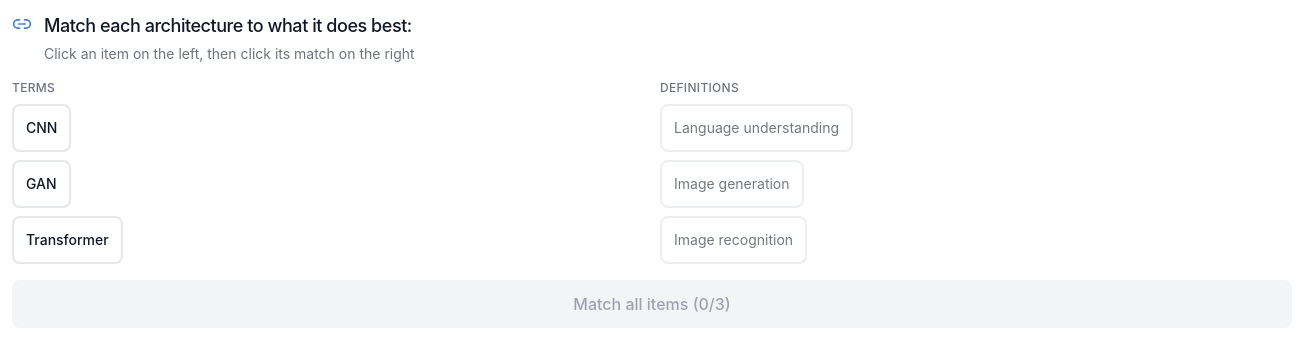
Test case: MatchingQuestion › enables submit button when all items are matched
Match all pairs
Click the button with test id "left-p1" at (42, 128), box x1=12 y1=104 x2=72 y2=152
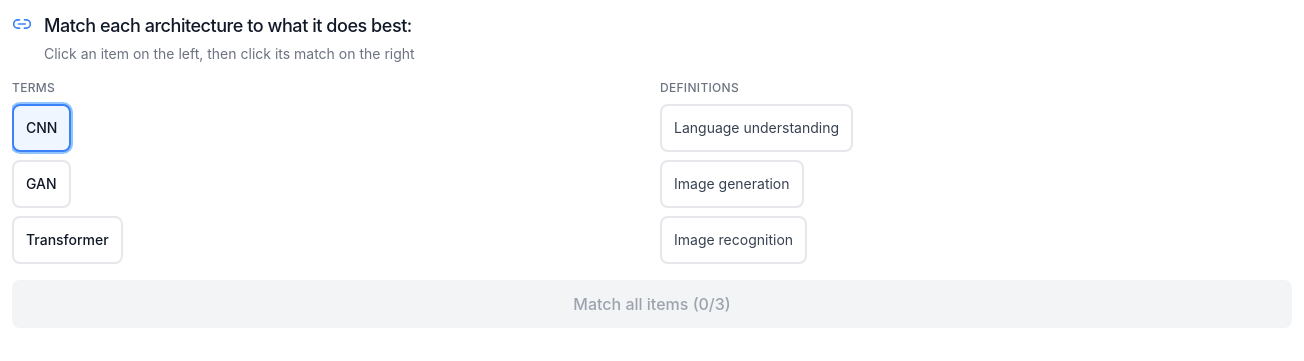
Click the button with test id "right-p1" at (734, 240), box x1=660 y1=216 x2=807 y2=264
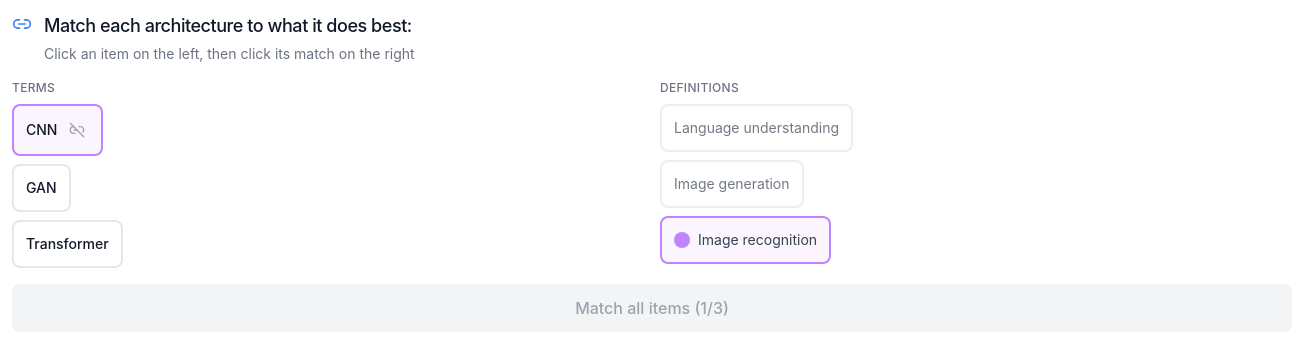
Click the button with test id "left-p2" at (41, 188), box x1=12 y1=164 x2=71 y2=212
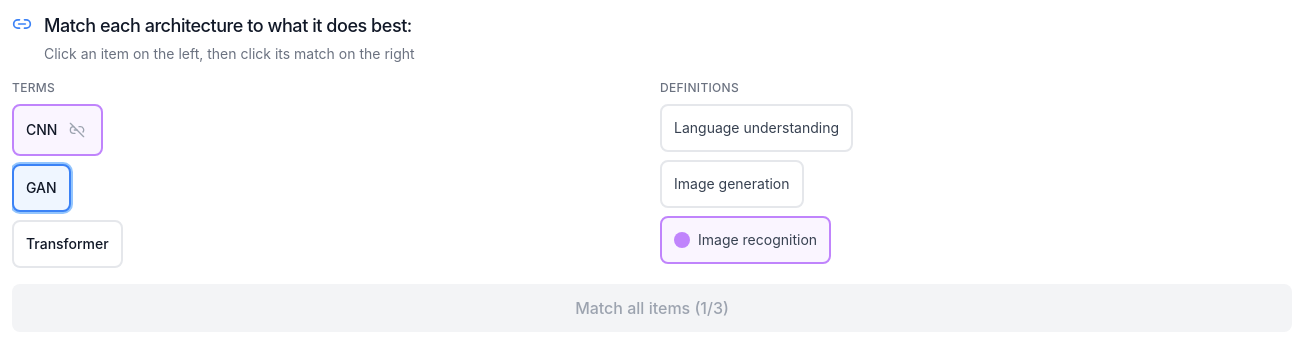
Click the button with test id "right-p2" at (732, 184), box x1=660 y1=160 x2=804 y2=208
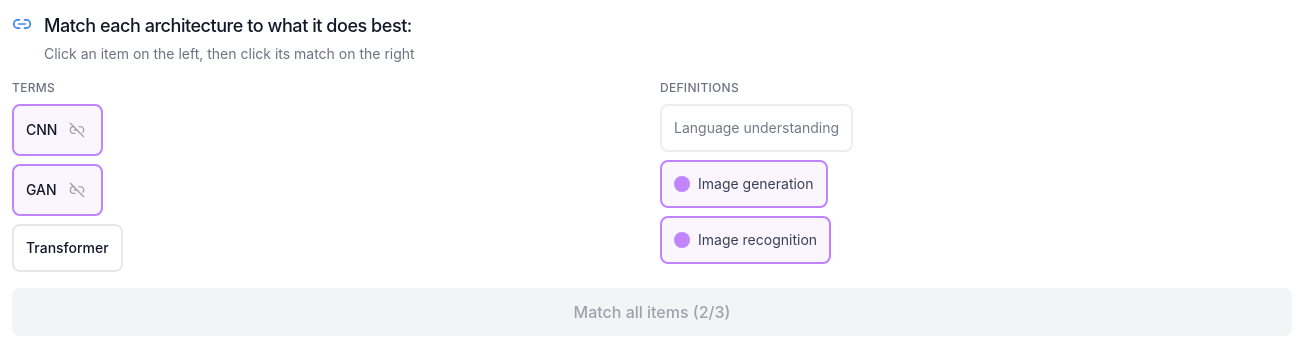
Click the button with test id "left-p3" at (67, 248), box x1=12 y1=224 x2=123 y2=272
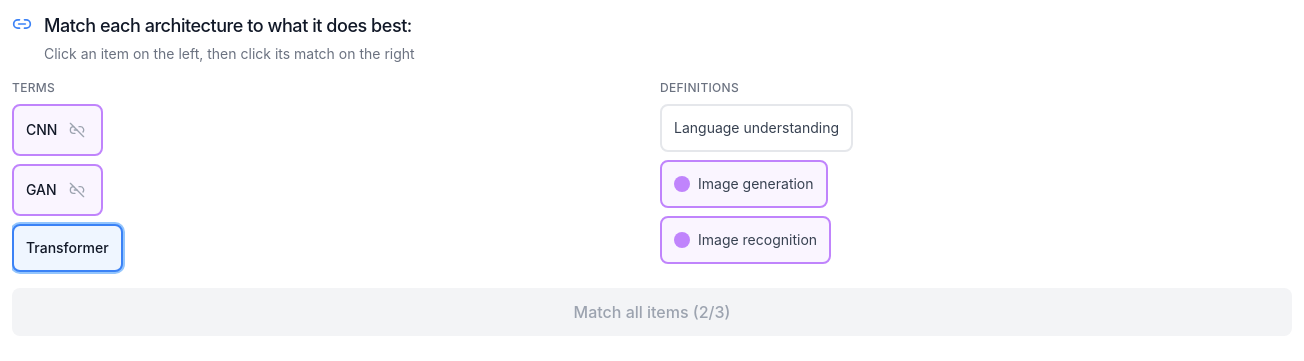
Click the button with test id "right-p3" at (756, 128), box x1=660 y1=104 x2=853 y2=152
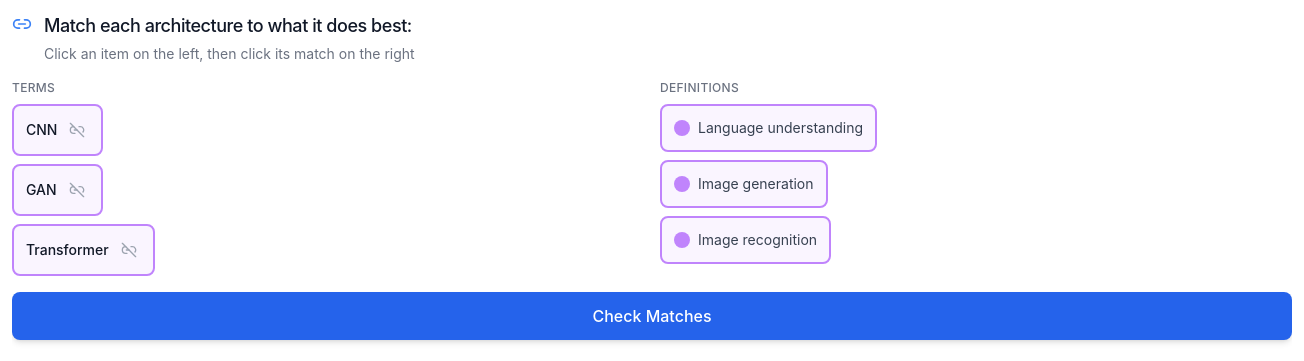
Now the button with test id "submit-button" is enabled, box x1=12 y1=292 x2=1292 y2=340
Now the button with test id "submit-button" reads "Check Matches", box x1=12 y1=292 x2=1292 y2=340
